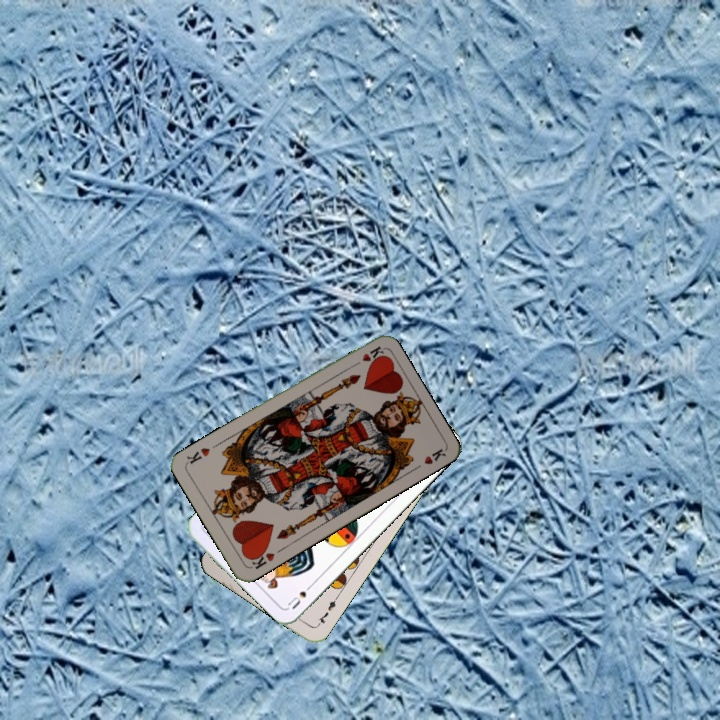E7: (313, 593, 341, 629)
HK: (347, 342, 385, 370), (245, 545, 277, 571)
SU: (283, 578, 317, 612)
